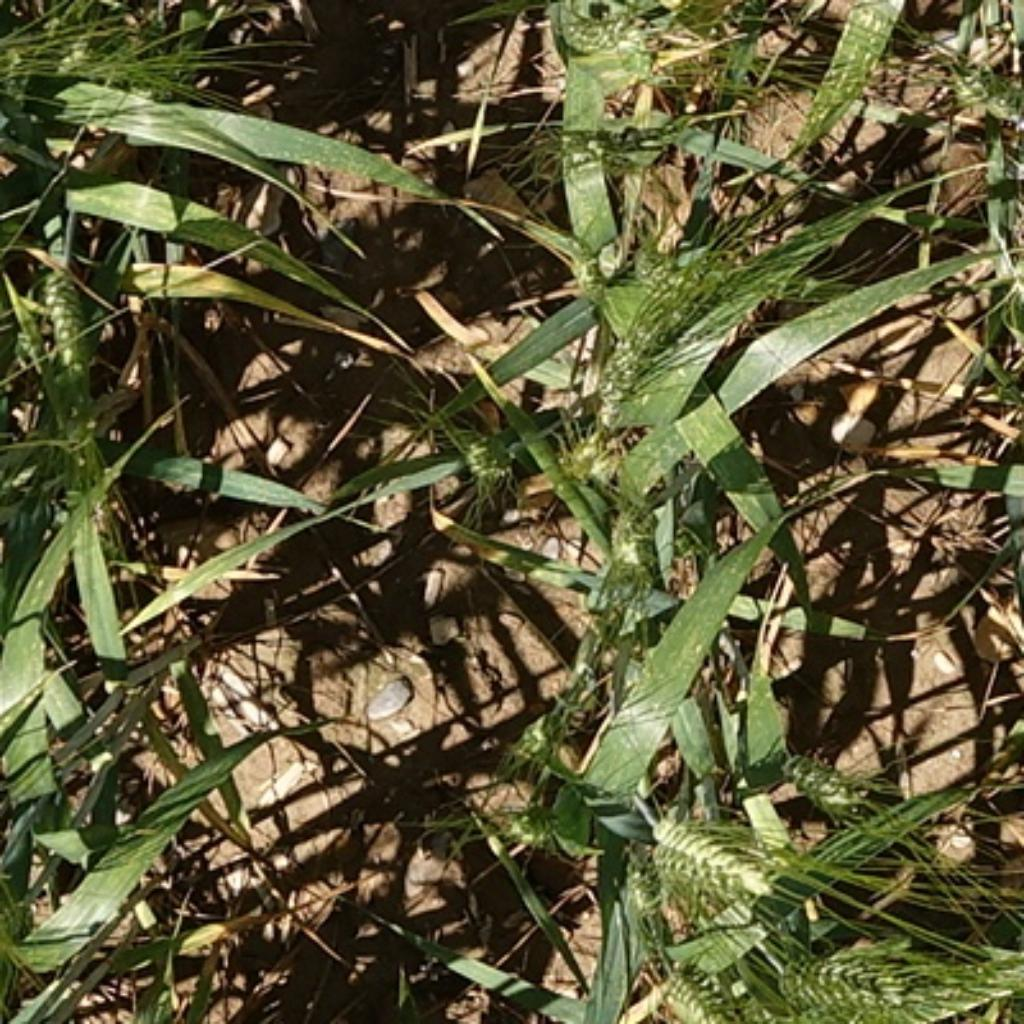0-0: (573, 251, 717, 430), (750, 933, 951, 1024), (639, 806, 792, 897), (626, 222, 784, 307), (578, 494, 668, 634), (460, 778, 601, 865), (773, 737, 883, 824), (30, 250, 98, 390), (542, 0, 662, 76), (935, 49, 1023, 134), (645, 963, 752, 1024), (550, 430, 622, 496), (453, 417, 522, 483)
